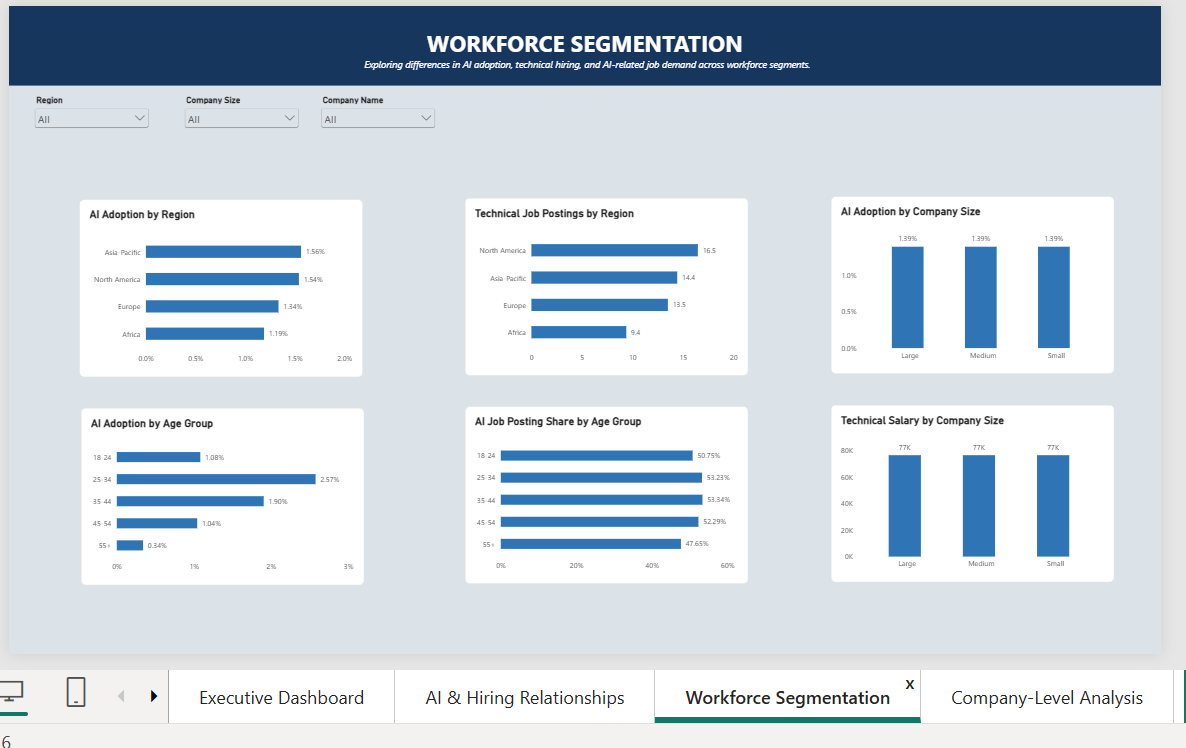

The dashboard page shown, as its layout file describes it:
{"tool":"powerbi","page":{"name":"Workforce Segmentation","canvas":[1920,1080],"ordinal":9},"visuals":[{"type":"textbox","box":[0,0,1920,132.5],"z":0},{"type":"slicer","fields":{"Values":["Company.Region"]},"box":[38,148.3,200,183.3],"z":1000},{"type":"slicer","fields":{"Values":["Company.Company_Size_Category"]},"box":[288,148.3,200,160],"z":2000},{"type":"slicer","fields":{"Values":["Company.Company_Name"]},"box":[514.7,148.3,200,160],"z":3000},{"type":"clusteredBarChart","title":"AI Adoption by Region","fields":{"Category":["company month clean.Region"],"Y":["company month clean.AI Adoption Avg"]},"box":[118.3,322.5,472,295.8],"z":4000},{"type":"clusteredBarChart","title":"Technical Job Postings by Region","fields":{"Category":["company month clean.Region"],"Y":["company month clean.Technical Job Postings Avg"]},"box":[759.2,320.8,472,295.8],"z":5000},{"type":"clusteredBarChart","title":"AI Adoption by Age Group","fields":{"Category":["Age Analysis.Age_Group"],"Y":["Avg(Age Analysis.AI_Adoption_Rate_Clean)"]},"box":[119.2,669.2,472,295],"z":6000},{"type":"clusteredBarChart","title":"AI Job Posting Share by Age Group","fields":{"Category":["Age Analysis.Age_Group"],"Y":["Age Analysis.AI Job Posting Share by Age"]},"box":[760,667.5,472,295],"z":7000},{"type":"clusteredColumnChart","title":"AI Adoption by Company Size","fields":{"Category":["Company Analysis.Company_Size_Category"],"Y":["company month clean.AI Adoption Avg"]},"box":[1369.2,318.3,472,295],"z":8000},{"type":"clusteredColumnChart","title":"Technical Salary by Company Size","fields":{"Category":["Company Analysis.Company_Size_Category"],"Y":["Avg(company month clean.Technical_Salary  new)"]},"box":[1369.2,665.8,472,295],"z":9000}]}

Visuals, with their boxes on the page's 1920x1080 design canvas (x1, y1, x2, y2). These are canvas units, not pixel positions in the 1186x748 screenshot, which may show the page scaled, cropped or inside an application window:
textbox: [left=0, top=0, right=1920, bottom=132]
slicer - Company.Region: [left=38, top=148, right=238, bottom=332]
slicer - Company.Company_Size_Category: [left=288, top=148, right=488, bottom=308]
slicer - Company.Company_Name: [left=515, top=148, right=715, bottom=308]
"AI Adoption by Region" clusteredBarChart: [left=118, top=322, right=590, bottom=618]
"Technical Job Postings by Region" clusteredBarChart: [left=759, top=321, right=1231, bottom=617]
"AI Adoption by Age Group" clusteredBarChart: [left=119, top=669, right=591, bottom=964]
"AI Job Posting Share by Age Group" clusteredBarChart: [left=760, top=668, right=1232, bottom=962]
"AI Adoption by Company Size" clusteredColumnChart: [left=1369, top=318, right=1841, bottom=613]
"Technical Salary by Company Size" clusteredColumnChart: [left=1369, top=666, right=1841, bottom=961]
